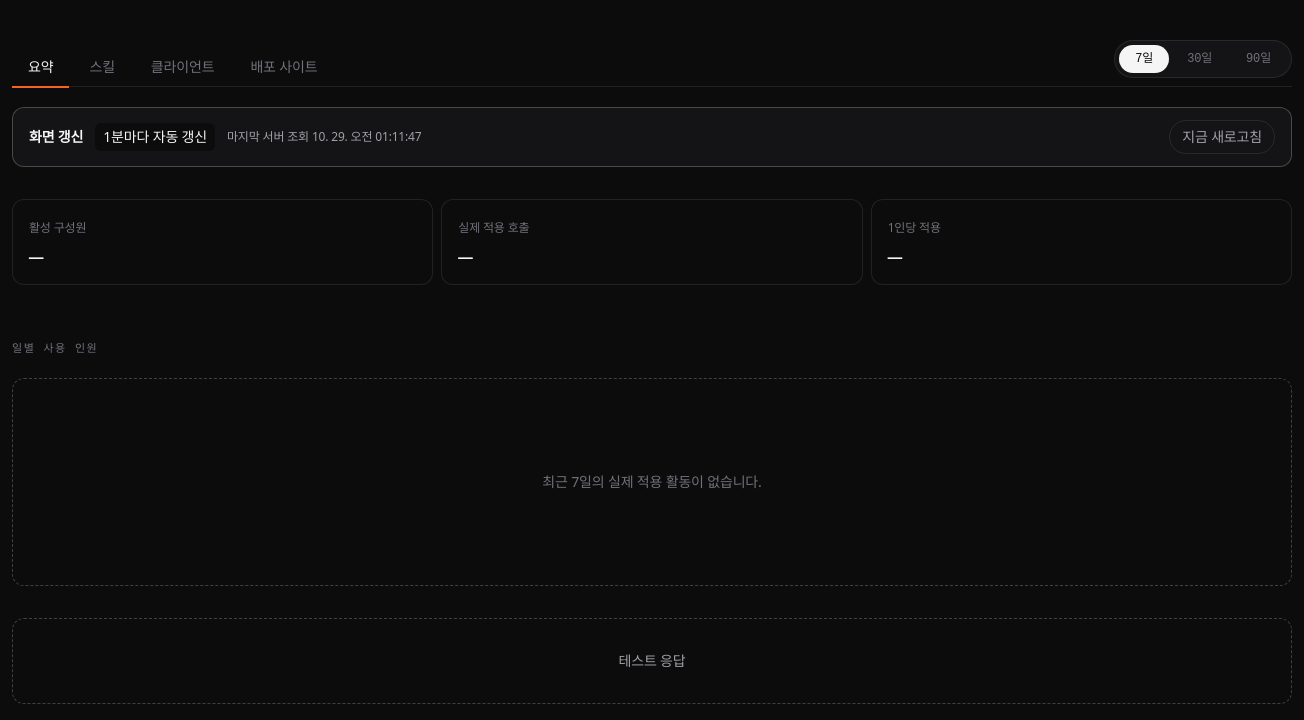
Test case: AxDashboard 패널 요청 › 데이터 패널을 네 업무 영역의 세부 보기로 묶고 키보드로 이동한다
The width and height of the screenshot is (1304, 720).
Click the tab "스킬" at (102, 67), box [73,47,131,87]
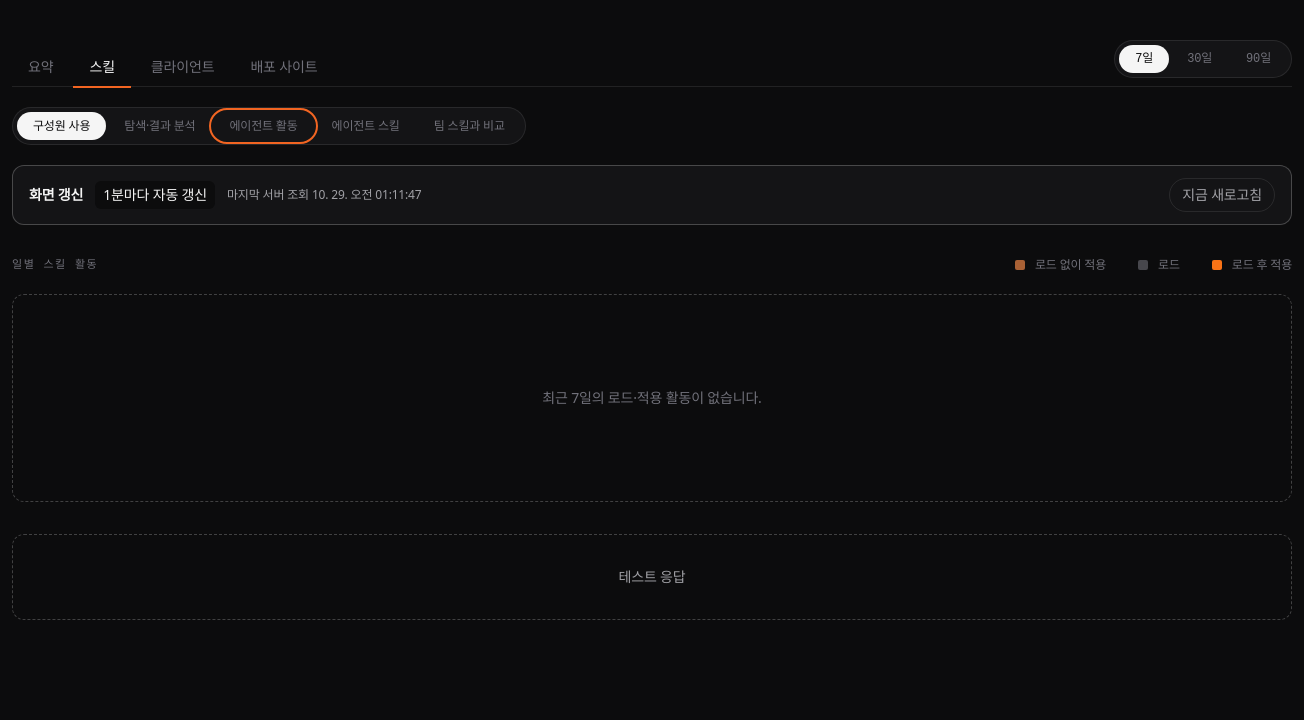
Now the tabs read "구성원 사용", "탐색·결과 분석", "에이전트 활동", "에이전트 스킬", "팀 스킬과 비교", in this order
Press ArrowLeft in the tab "에이전트 활동", box [213,112,314,140]
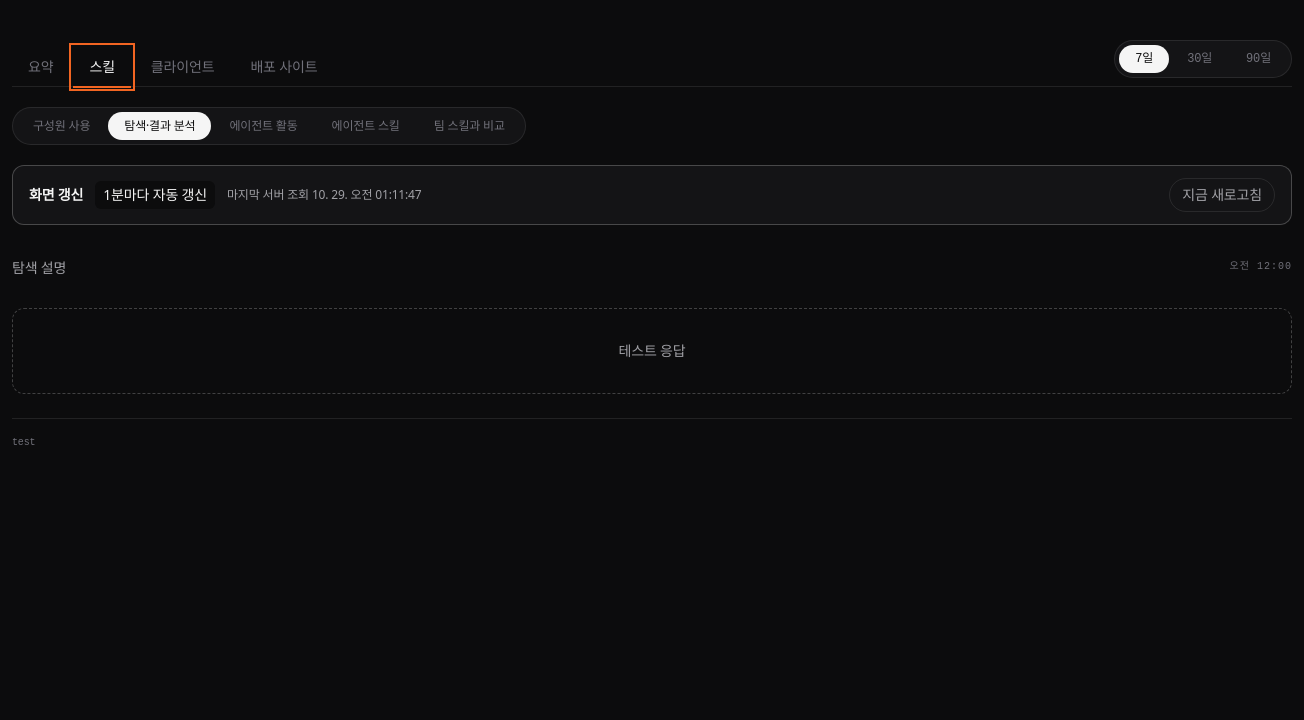
Now the tab "탐색·결과 분석" is selected, box [108,112,212,140]
Press End in the tab "스킬", box [73,47,131,87]
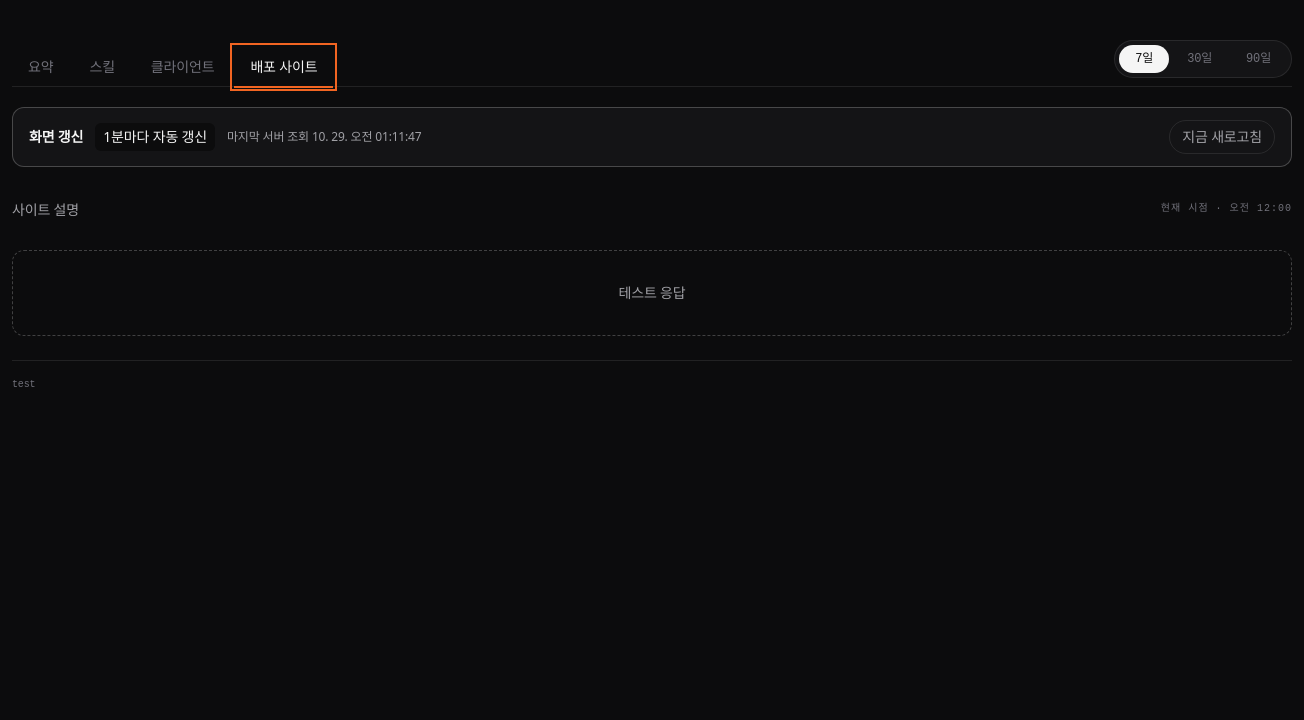
Now the tab "배포 사이트" is selected, box [234,47,333,87]
Click the tab "클라이언트" at (183, 67), box [135,47,230,87]
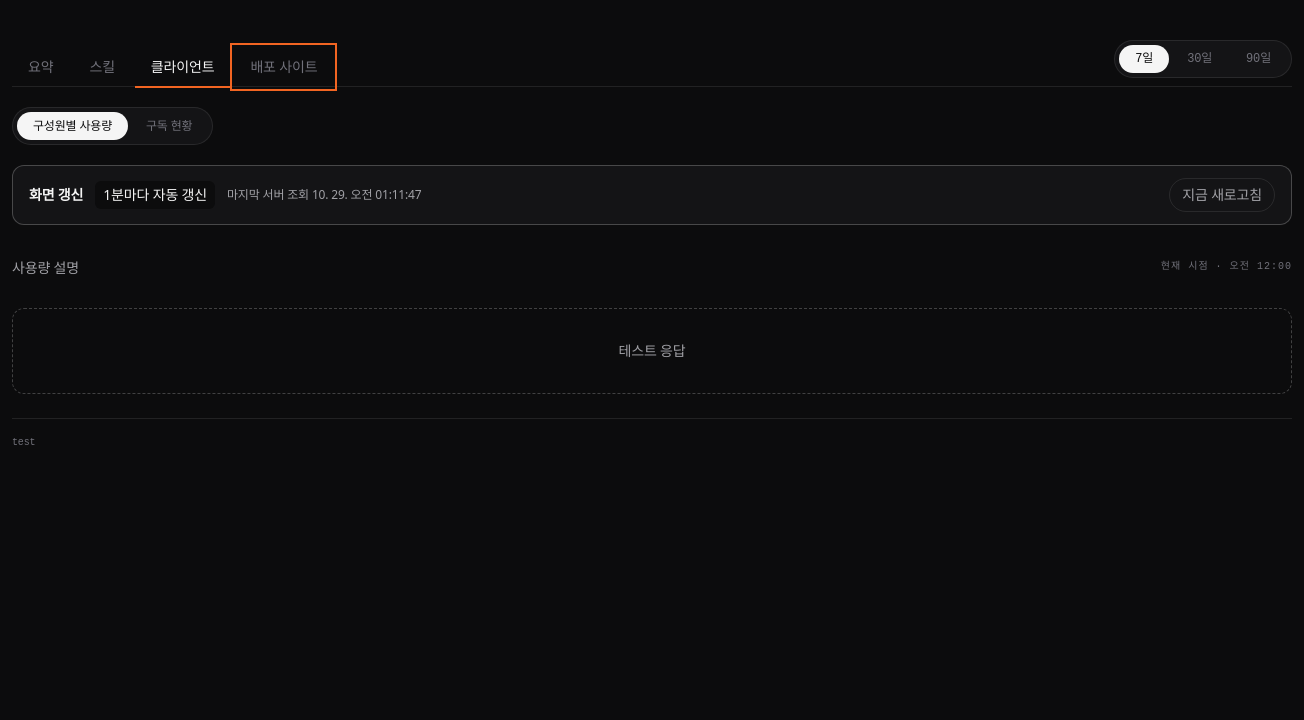
Now the tabs read "구성원별 사용량", "구독 현황", in this order, box [17,112,128,140]; [130,112,208,140]
